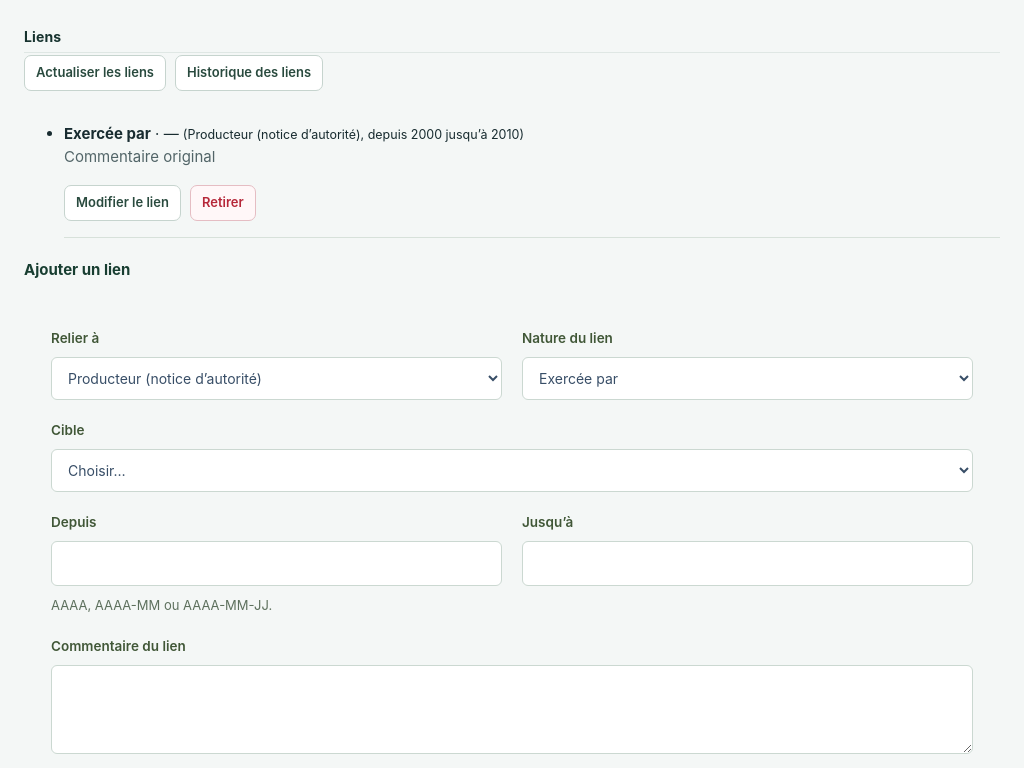
Test: bloque une période inversée et une modification sans différence
Click the button "Modifier le lien": [122, 203] box top-left (64, 185), bottom-right (181, 221)
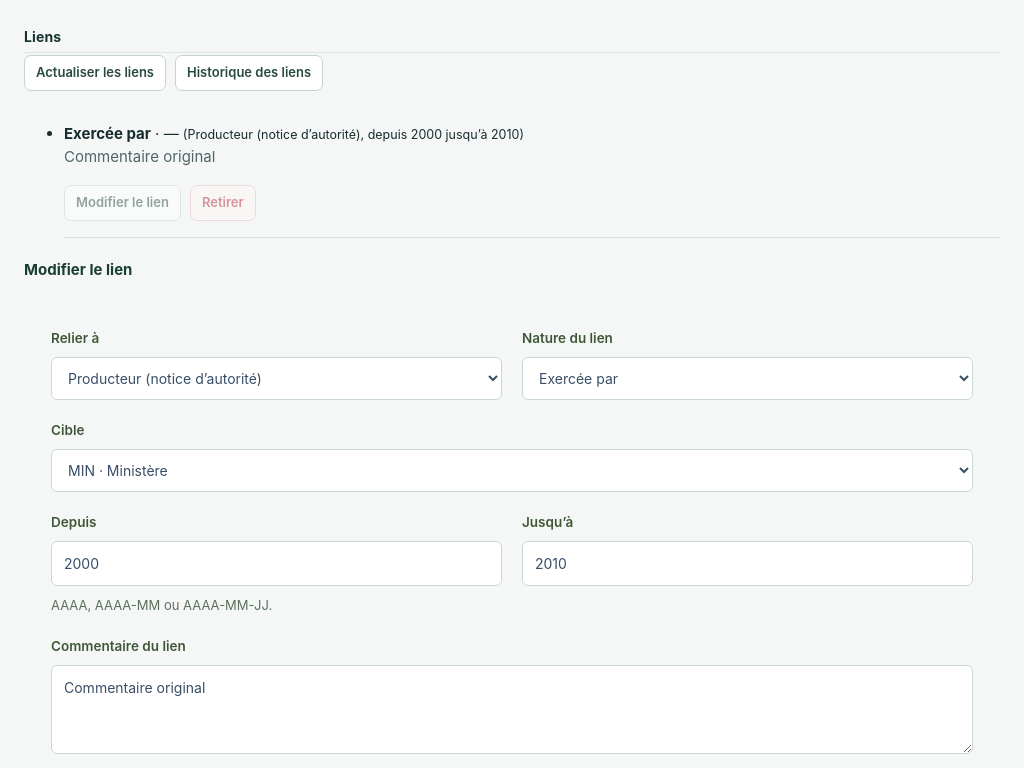
Replace the text in the field labelled "Depuis AAAA, AAAA-MM ou AAAA-MM-JJ." with "2030": [276, 563] box top-left (51, 541), bottom-right (502, 586)
(page scrolled)
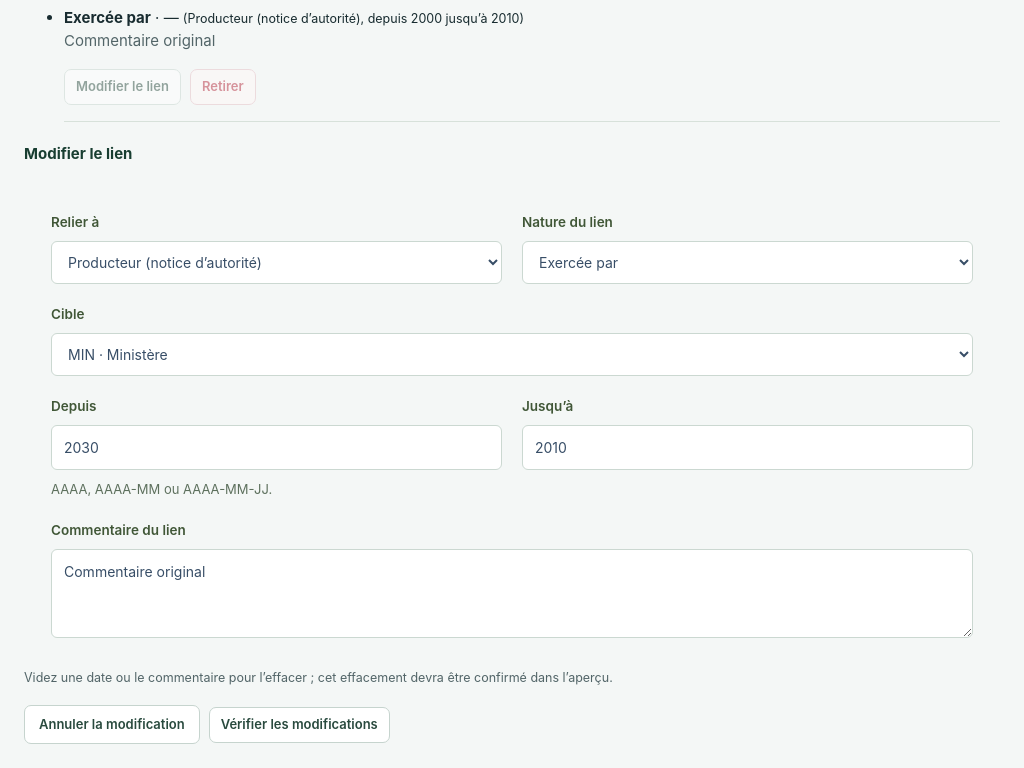
Click the button "Vérifier les modifications": [299, 725] box top-left (209, 707), bottom-right (390, 743)
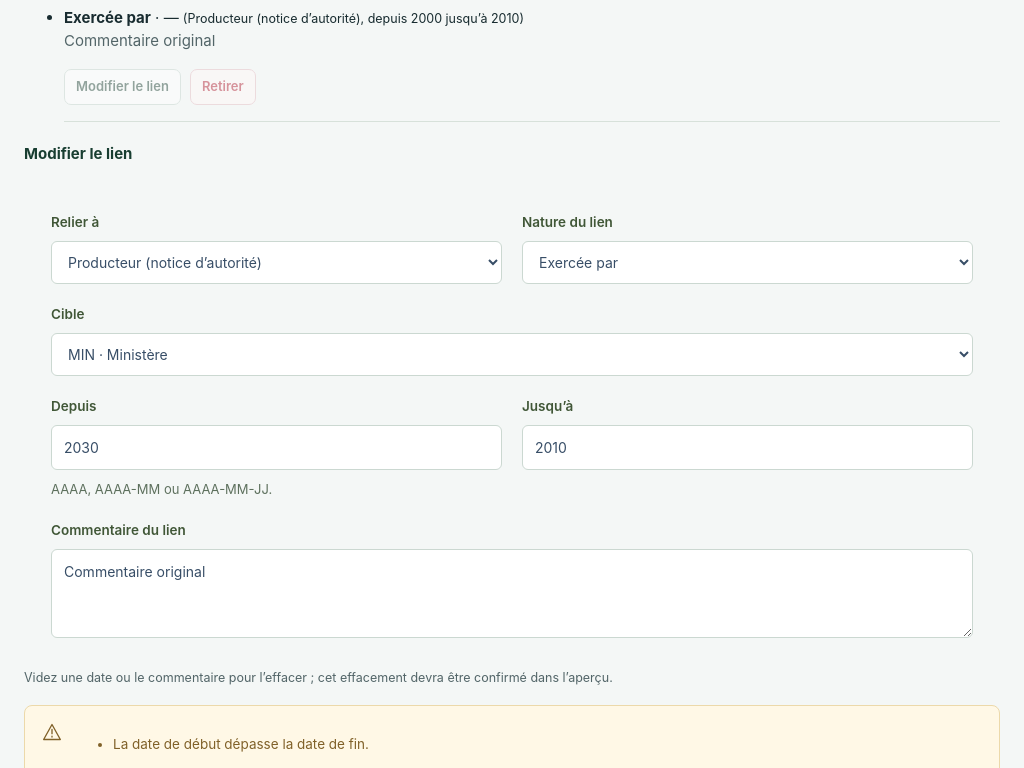
Result: the list item "La date de début dépasse la date de fin." is shown at top-left (113, 734), bottom-right (369, 755)
